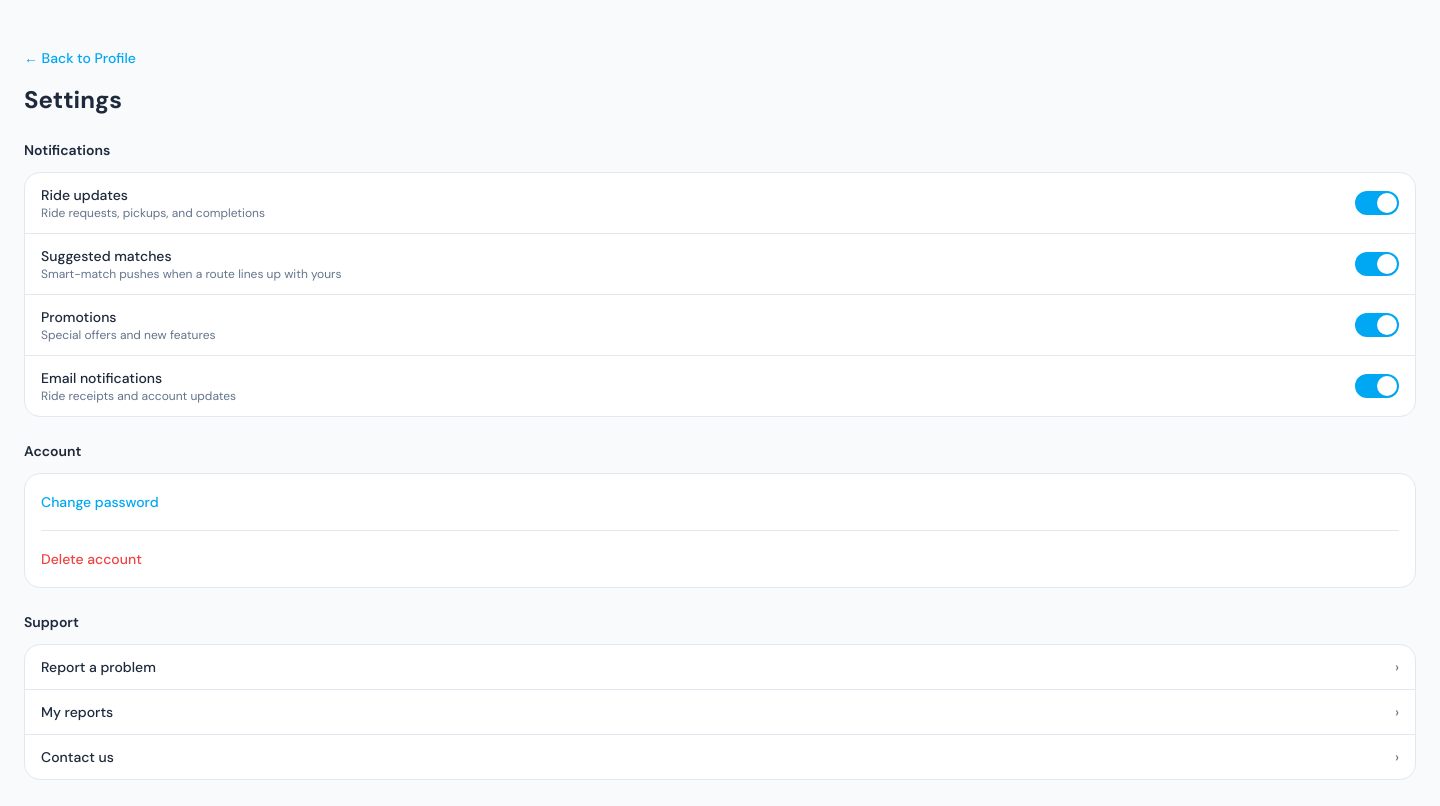
Scenario: SettingsPage › validates password length
This screenshot has width=1440, height=806.
Click the button with test id "change-password-button".
click(100, 502)  # box x1=41 y1=492 x2=159 y2=512
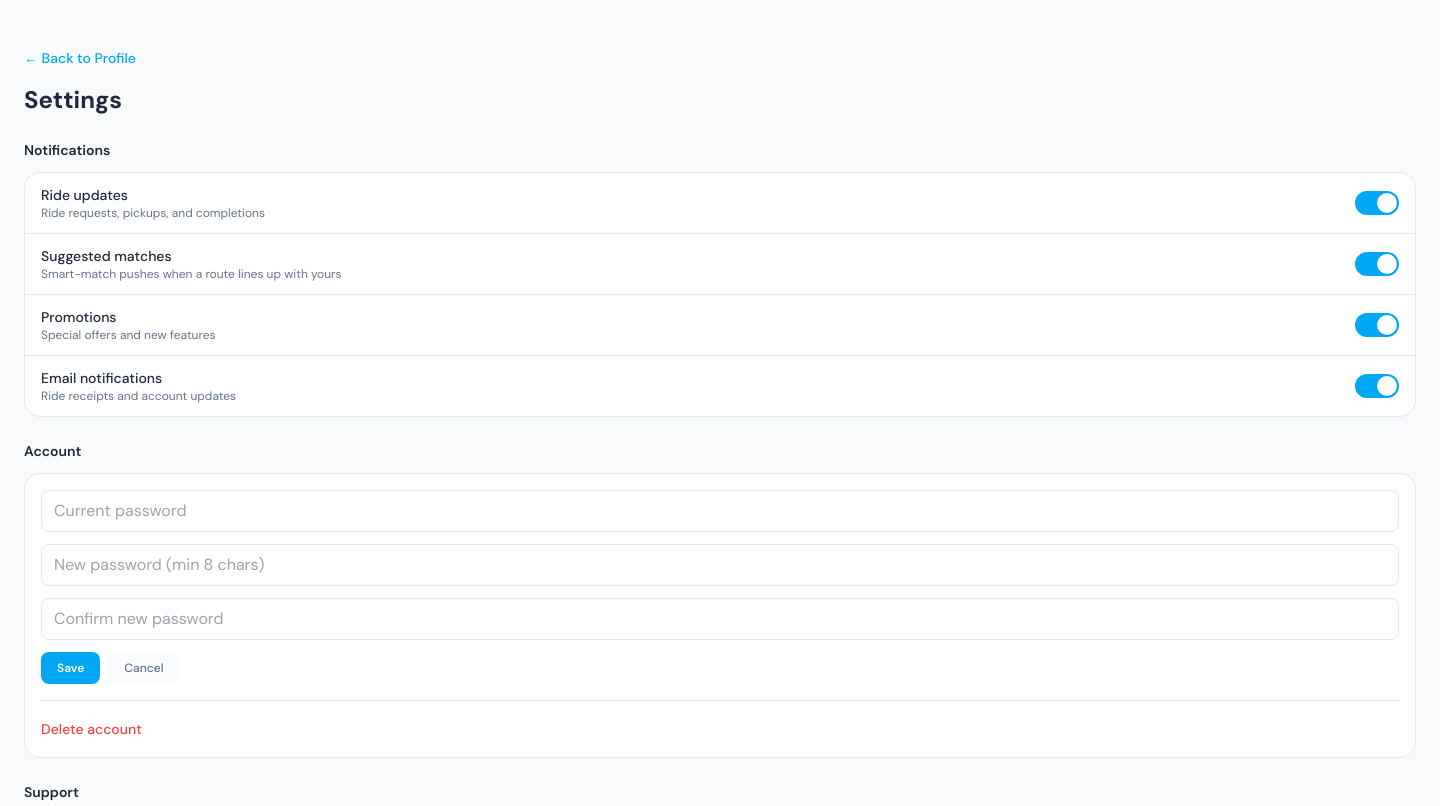
Type "currentPw1" into the password field with test id "current-password-input".
click(720, 511); type("currentPw1")  # box x1=41 y1=490 x2=1399 y2=532
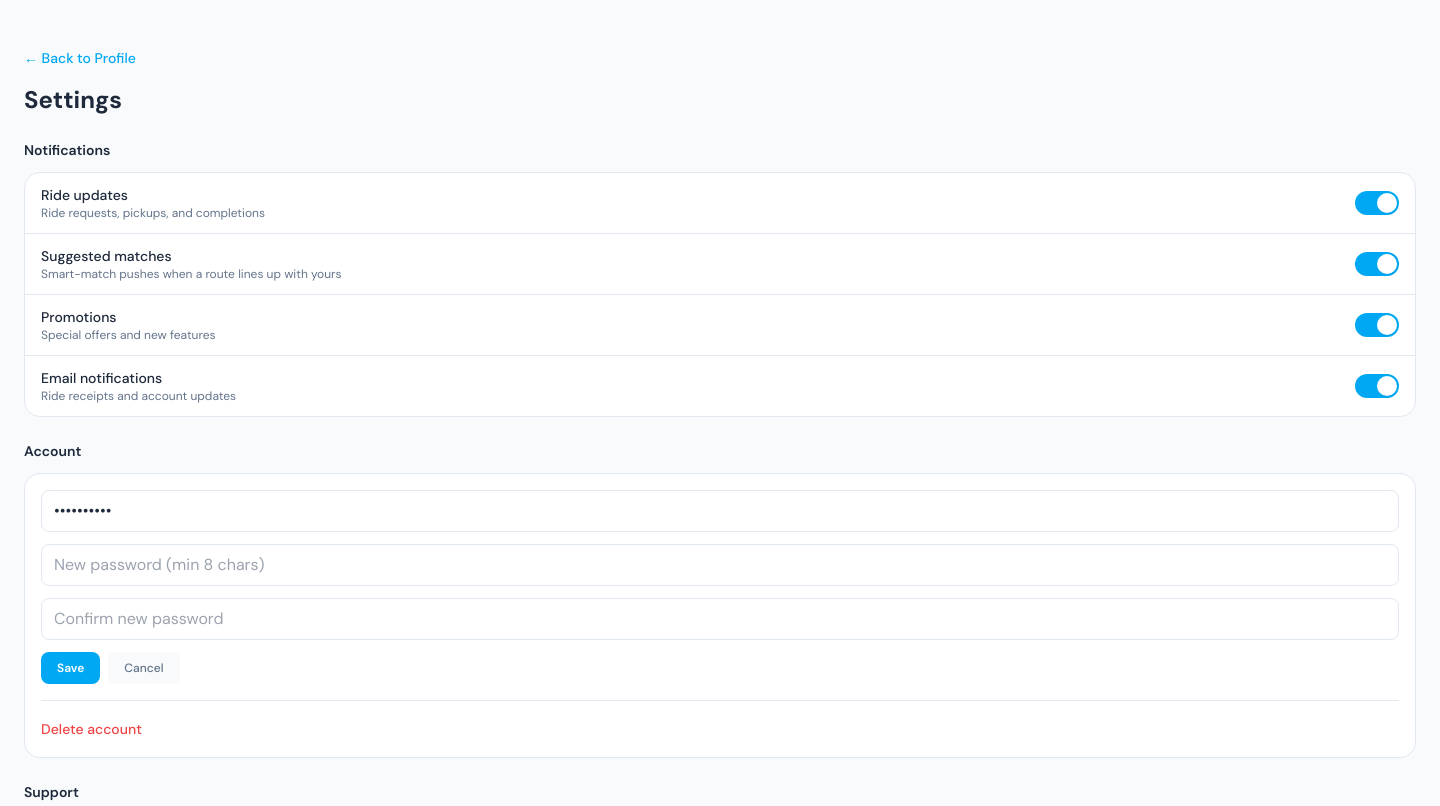
Type "short" into the password field with test id "new-password-input".
click(720, 565); type("short")  # box x1=41 y1=544 x2=1399 y2=586
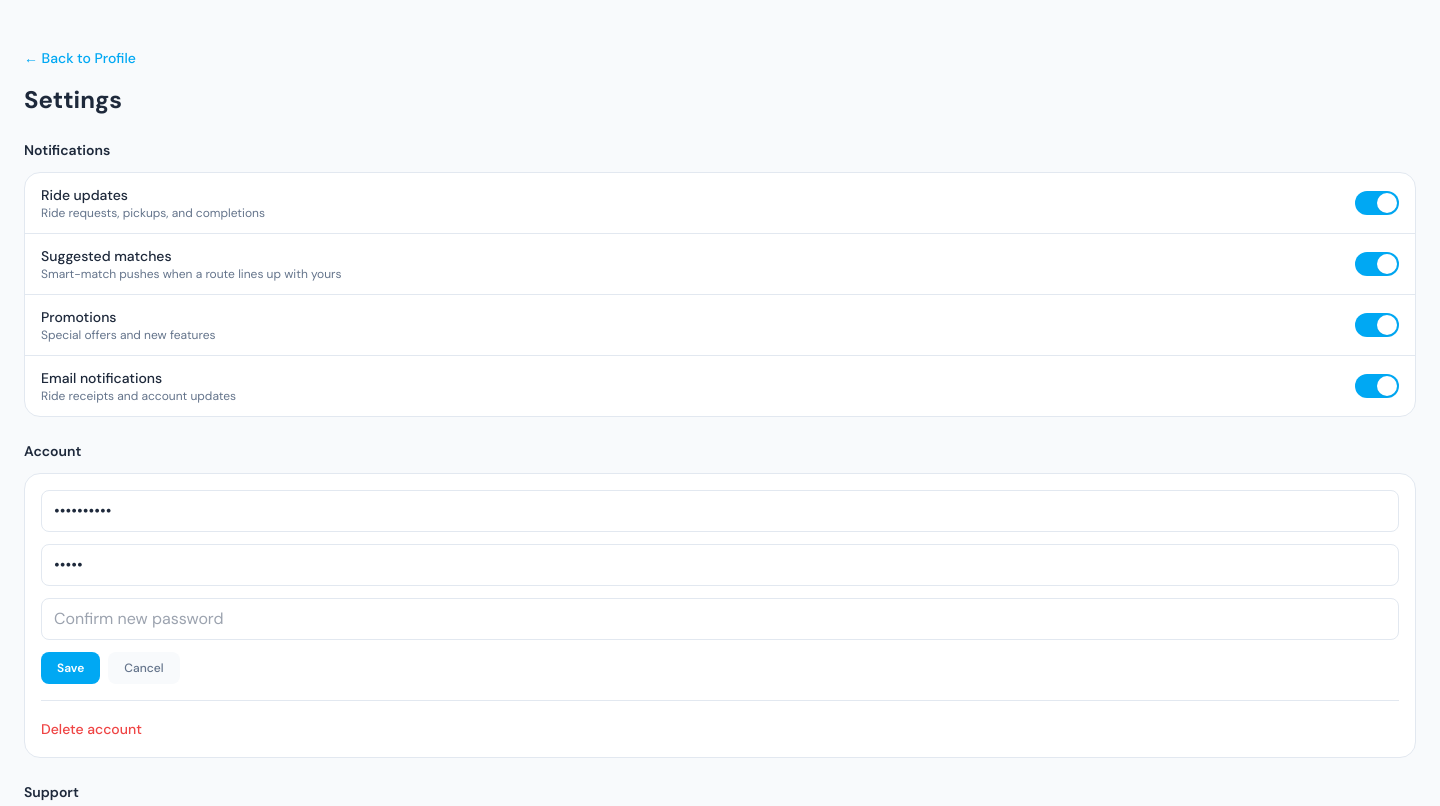
Type "short" into the password field with test id "confirm-password-input".
click(720, 619); type("short")  # box x1=41 y1=598 x2=1399 y2=640
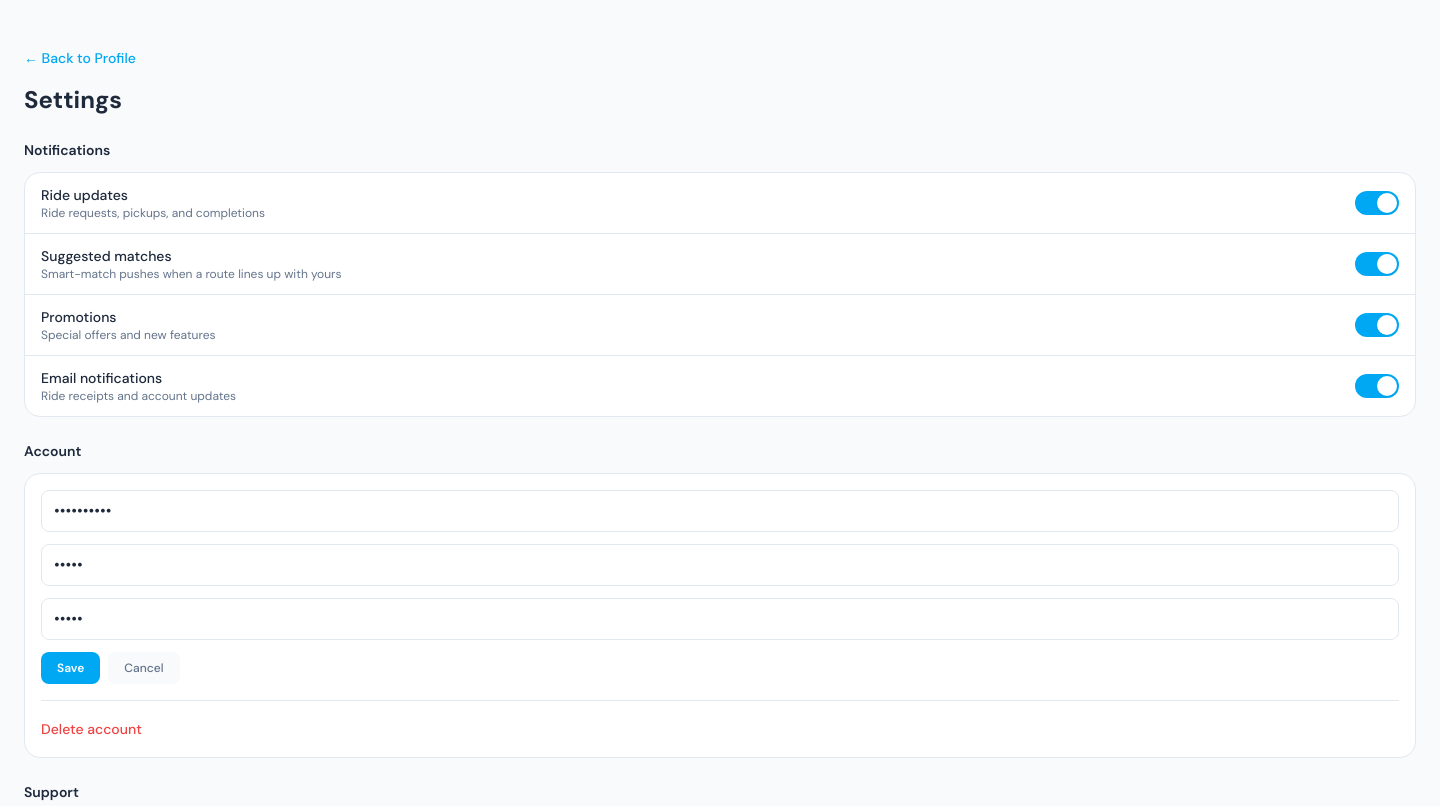
Click the button with test id "save-password-button".
click(71, 668)  # box x1=41 y1=652 x2=100 y2=684
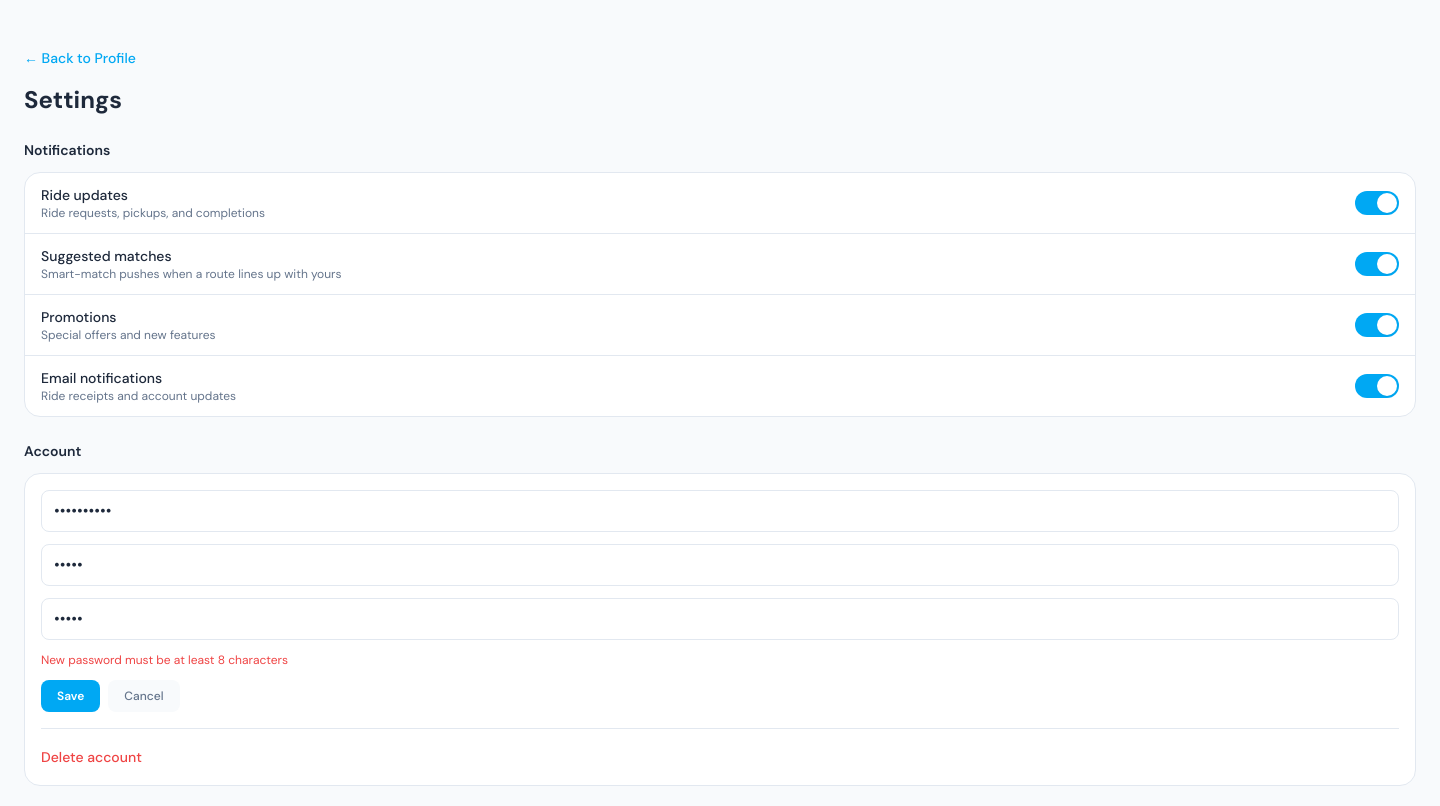
Expected: the text with test id "password-error" reads "New password must be at least 8 characters", x1=41 y1=652 x2=288 y2=668
